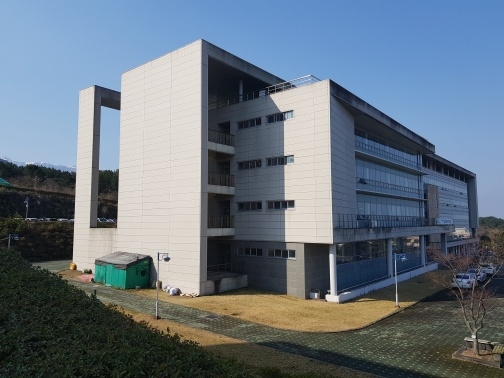Engineering College Building 4: (79, 59, 430, 287), (213, 86, 412, 281), (423, 151, 481, 266)
